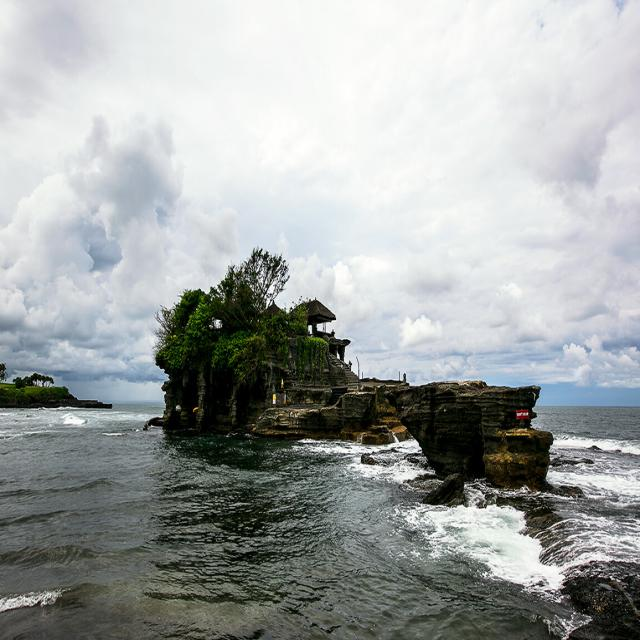reef: (432, 459, 640, 627)
